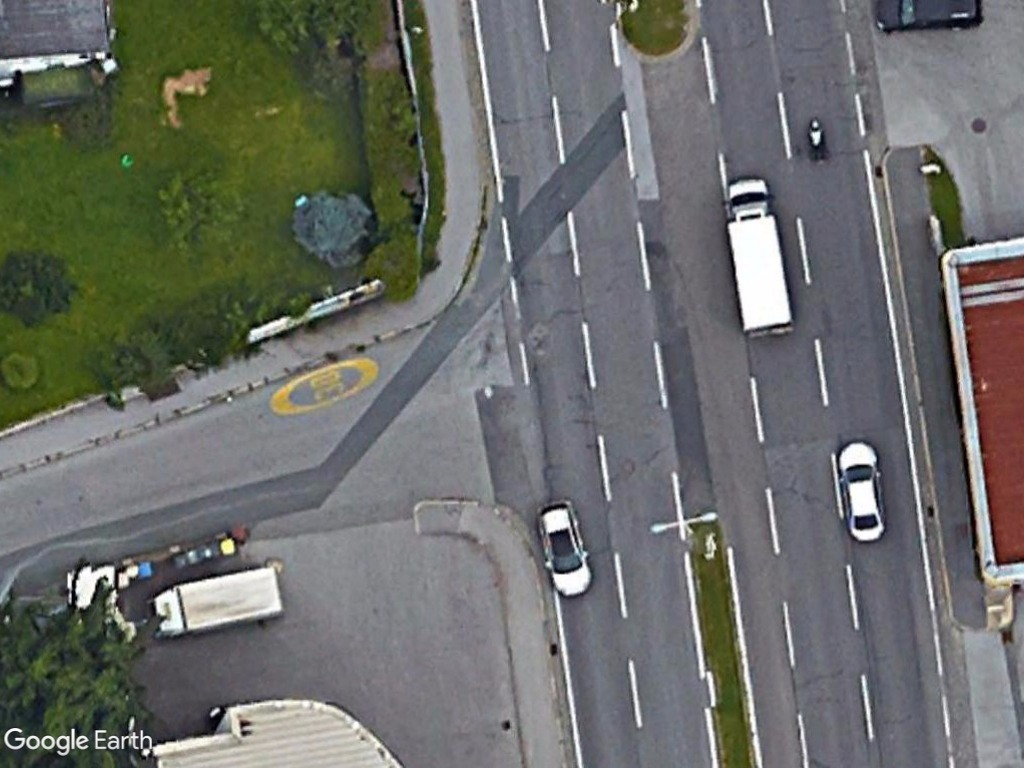car: (531, 497, 598, 605), (832, 435, 891, 547)
truck: (718, 170, 801, 343), (147, 559, 289, 642)
